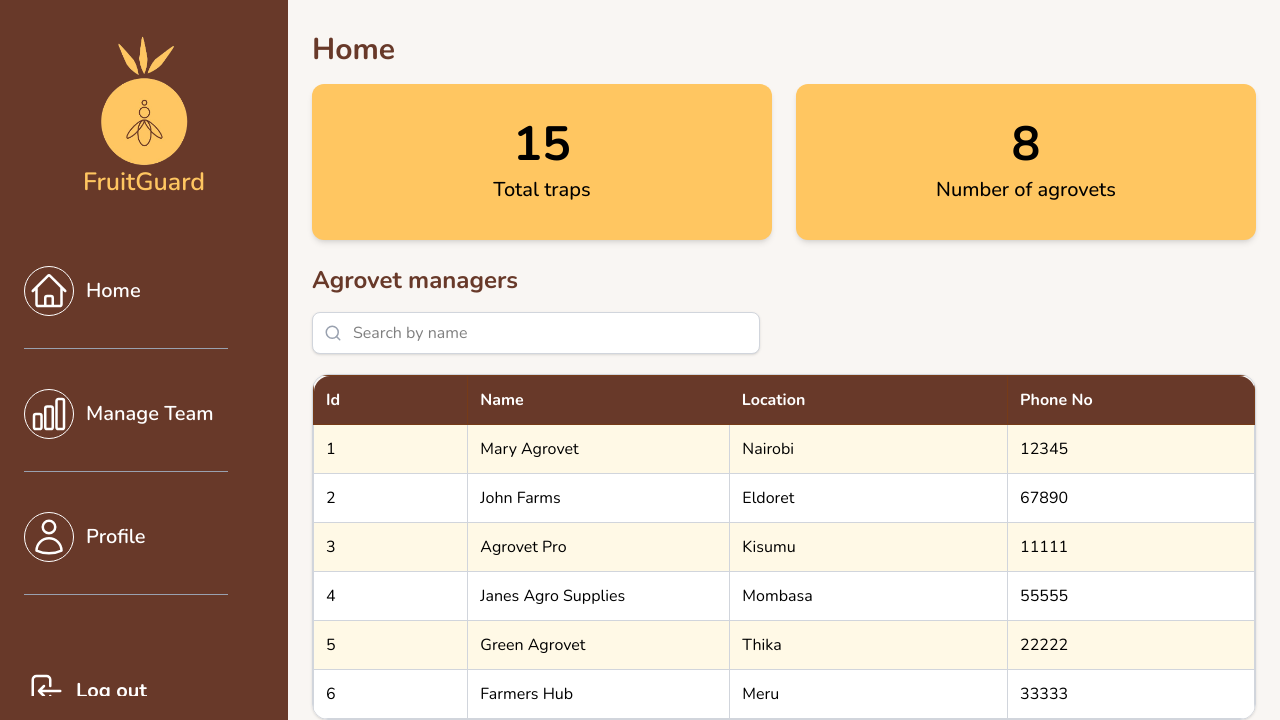
Test case: HomePage › shows message if search yields no results
Type "notfound" into the field with placeholder "Search by name" at (536, 333), box [312,312,760,354]
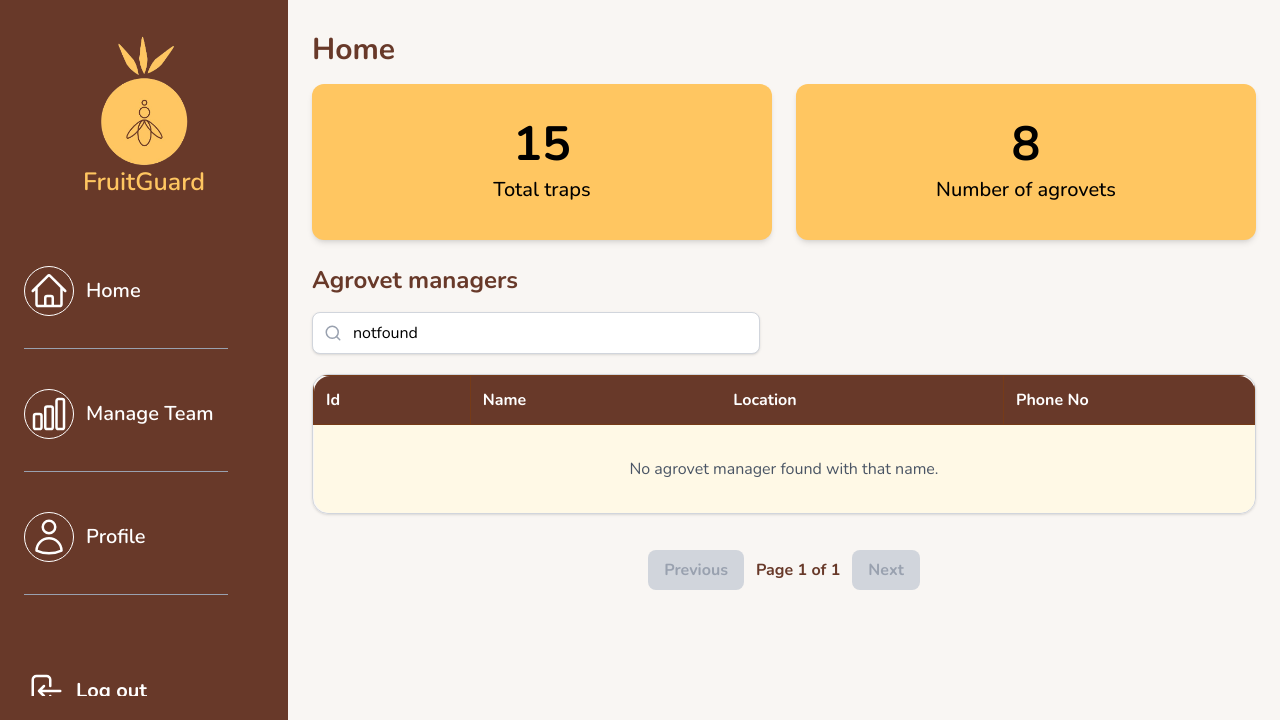
expect the text "No agrovet manager found with that name." is shown: met, box [314,424,1254,513]
